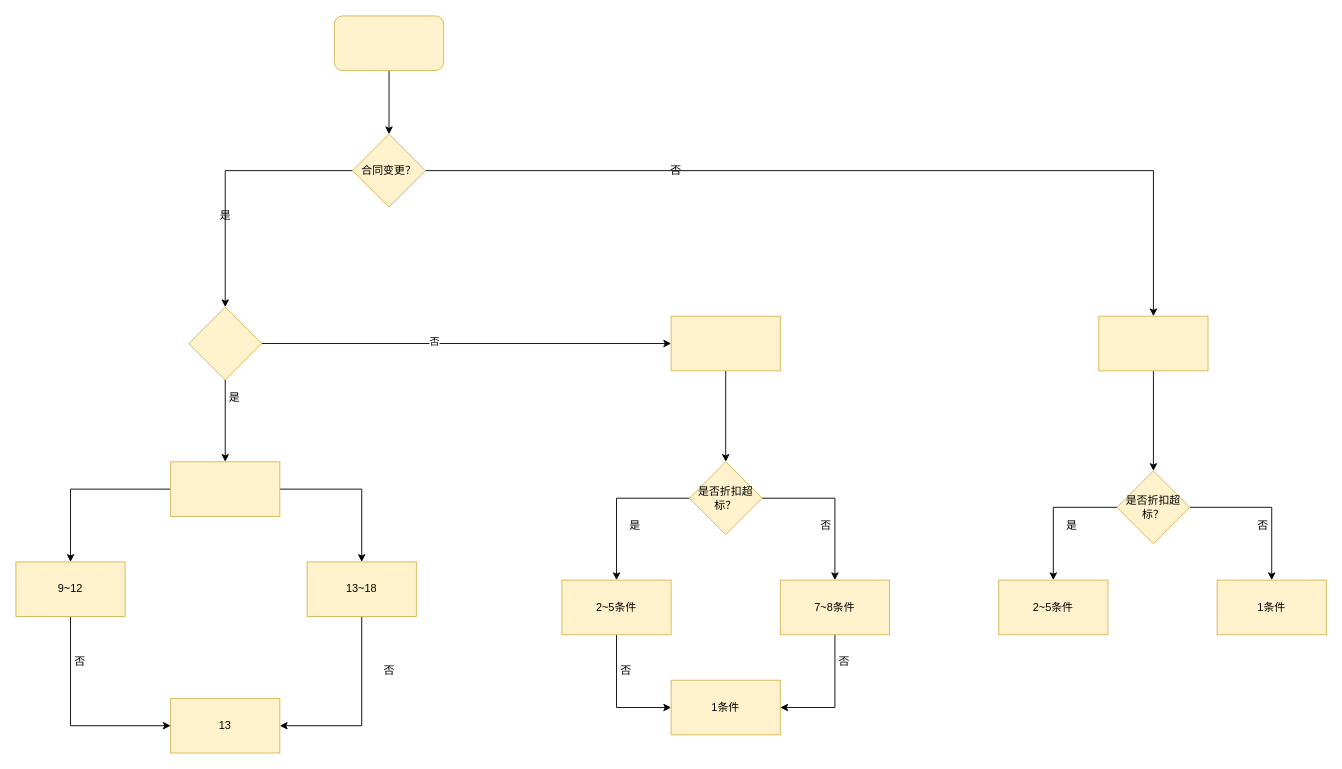
The diagram is 1342 pixels wide and 769 high, and some of its shapes have lost their labels. The shapes that lost their labels are listed below. From the top down, each one's centre as x and y in pixels, then its label:
[389,43]: 开始
[225,343]: 发票类型变更？
[725,343]: 1~8条件
[1153,343]: 1~6条件
[225,488]: 9~18条件
